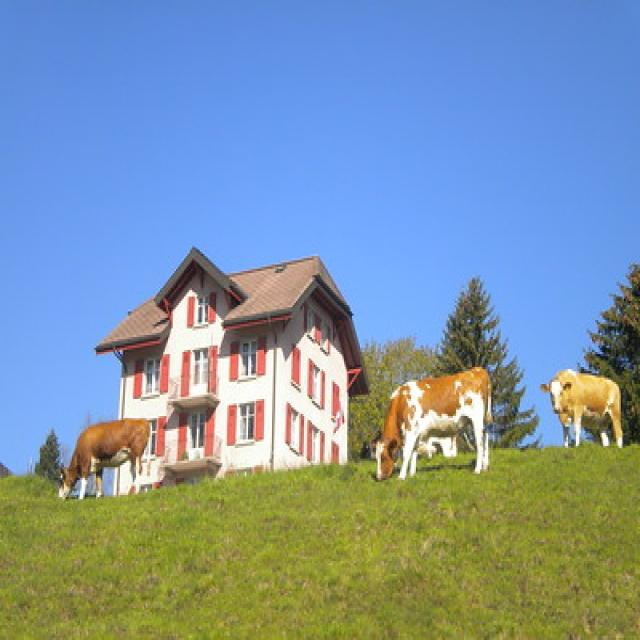Normal_building: (90, 241, 374, 506)
